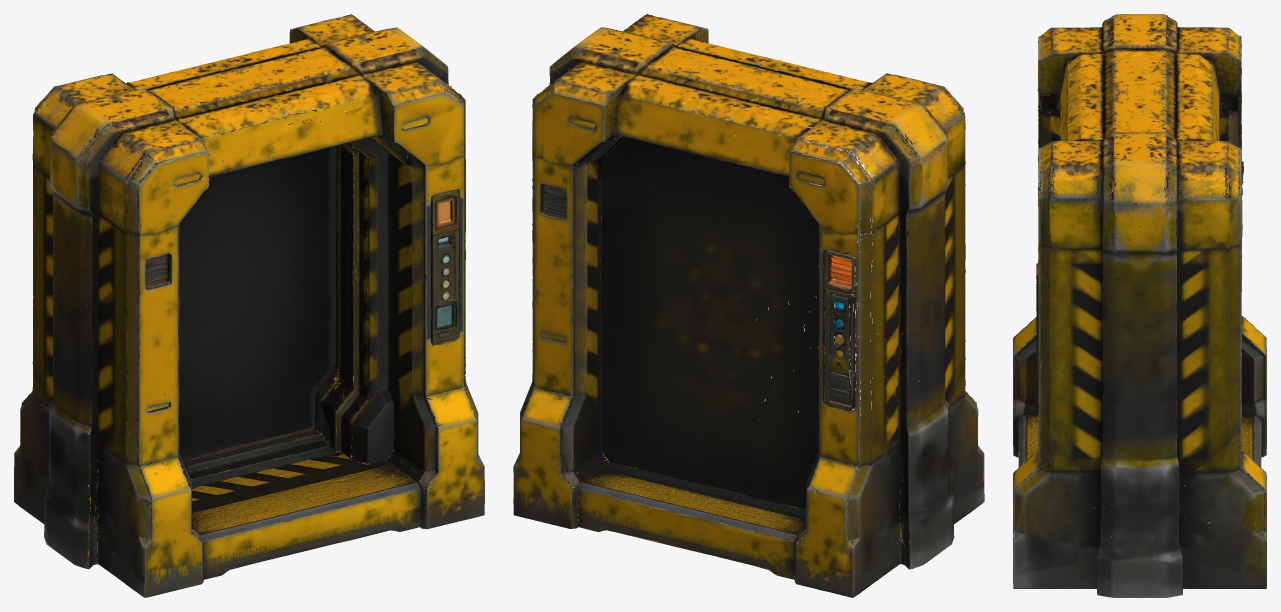
Rendered from tsra_portal_frame.glb.
3 views of the same model, side by side, from view 1: azimuth 30°, elevation 25°; view 2: azimuth 150°, elevation 25°; view 3: azimuth 270°, elevation 25° (orthographic). The views are drawn at different scales.
Parts seen in each view (by area): view 1: PortalFrame; view 2: PortalFrame; view 3: PortalFrame.
Boxes of the visible parts, box(x1,y1,x2,y2) form: PortalFrame: box(14, 14, 484, 597); PortalFrame: box(513, 14, 984, 597); PortalFrame: box(1013, 14, 1266, 597).
Size of what is drawn, in the model's own units: 4.11 by 4.51 by 2.47.
1 material, 1 textured.
